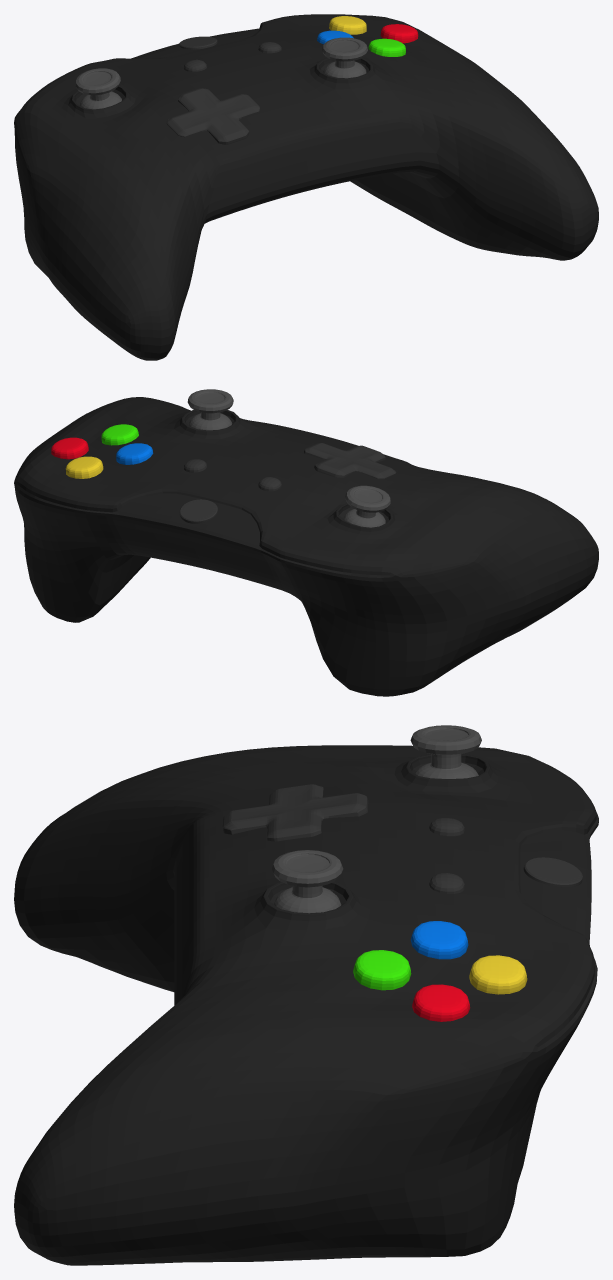
The model's file is xbox controller black.glb.
The picture shows the model from 3 angles, top to bottom: view 1: azimuth 30°, elevation 25°; view 2: azimuth 150°, elevation 25°; view 3: azimuth 270°, elevation 25°; orthographic projection. The views are drawn at different scales.
Visible parts, largest first — view 1: Cube; view 2: Cube; view 3: Cube.
Boxes of the visible parts, <box> form: Cube: <box>14,14,598,360</box>; Cube: <box>14,389,598,696</box>; Cube: <box>14,725,598,1265</box>.
Bounding box in the file's own units: 3.28 × 1.29 × 2.19.
